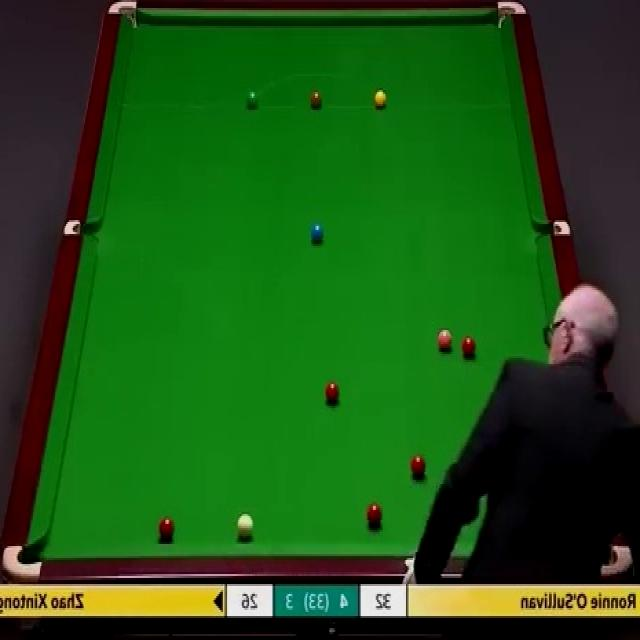pocket: (2, 544, 42, 583), (600, 544, 634, 579), (107, 2, 138, 32), (496, 1, 528, 30), (536, 221, 570, 240), (64, 222, 98, 240)
